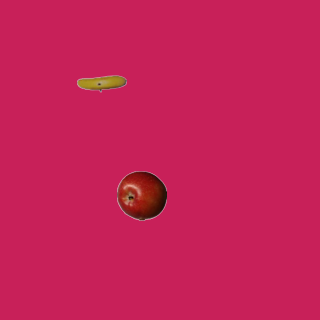Apple Braeburn: (116, 170, 166, 220)
Banana: (76, 58, 126, 108)
